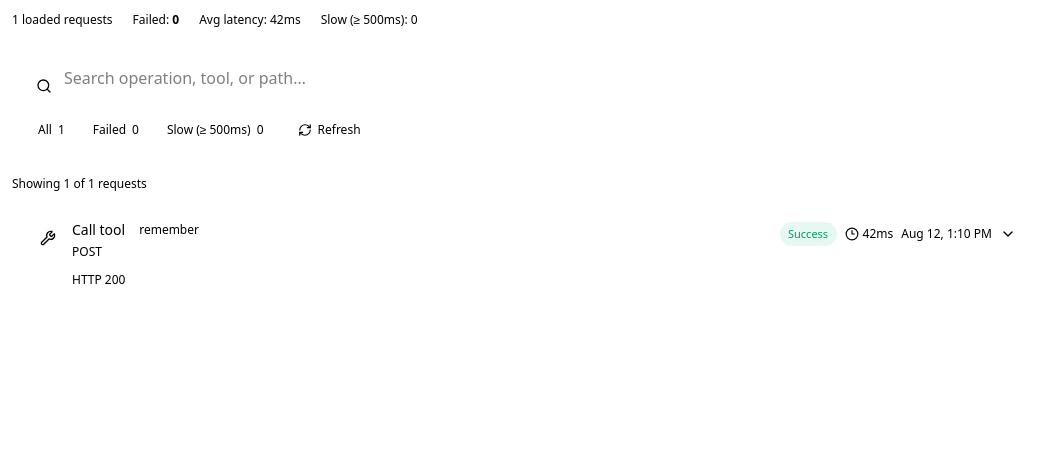
Test: McpRequestLogs › explains absent payloads without offering a fake copy action
Click the button "Call tool remember POST Success 42ms Aug 12, 1:10 PM" at [99, 230], box [12,208,1036,272]
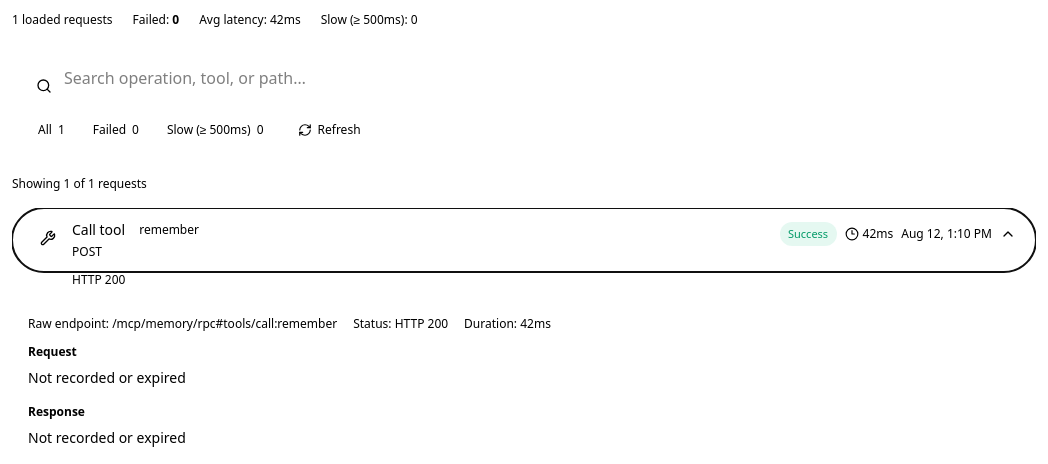
Expected: the text "Not recorded or expired" is shown 2 times, [28,368,186,387]; [28,428,186,447]
